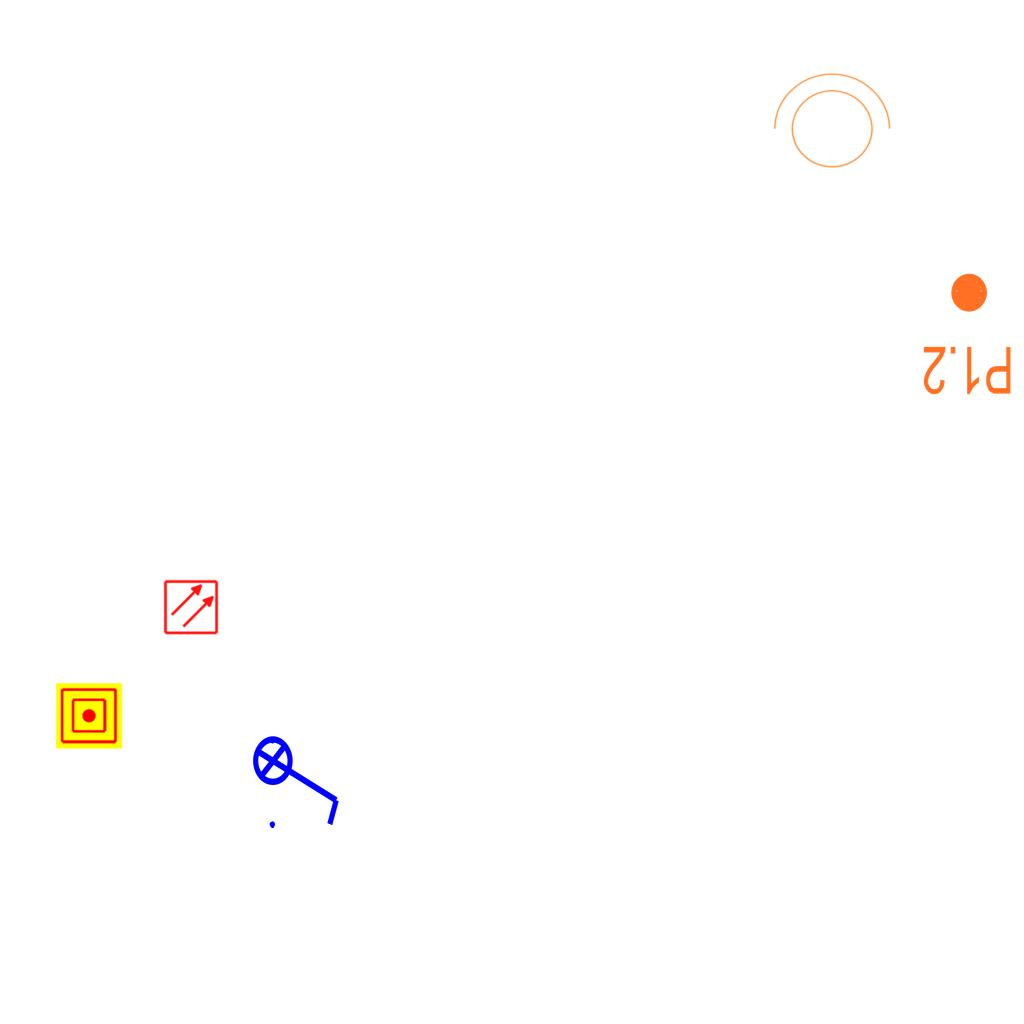Ausschalter_beleuchtet: (251, 722, 347, 834)
Downlight_LED_Einbauleuchten_Flur: (921, 270, 1014, 398)
NAM-Nichtautomatischer_Melder: (56, 683, 122, 749)
RMO_Rauchmelder_optischer: (163, 579, 219, 635)
Scheinwerfer_fuer_Alarmbeleuchtung: (763, 68, 895, 180)
